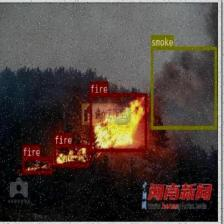smoke: (150, 46, 216, 128)
